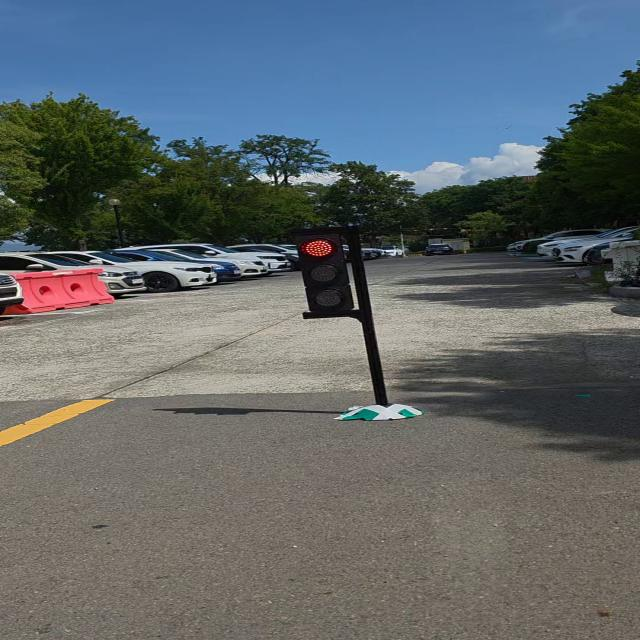red: (292, 230, 358, 320)
